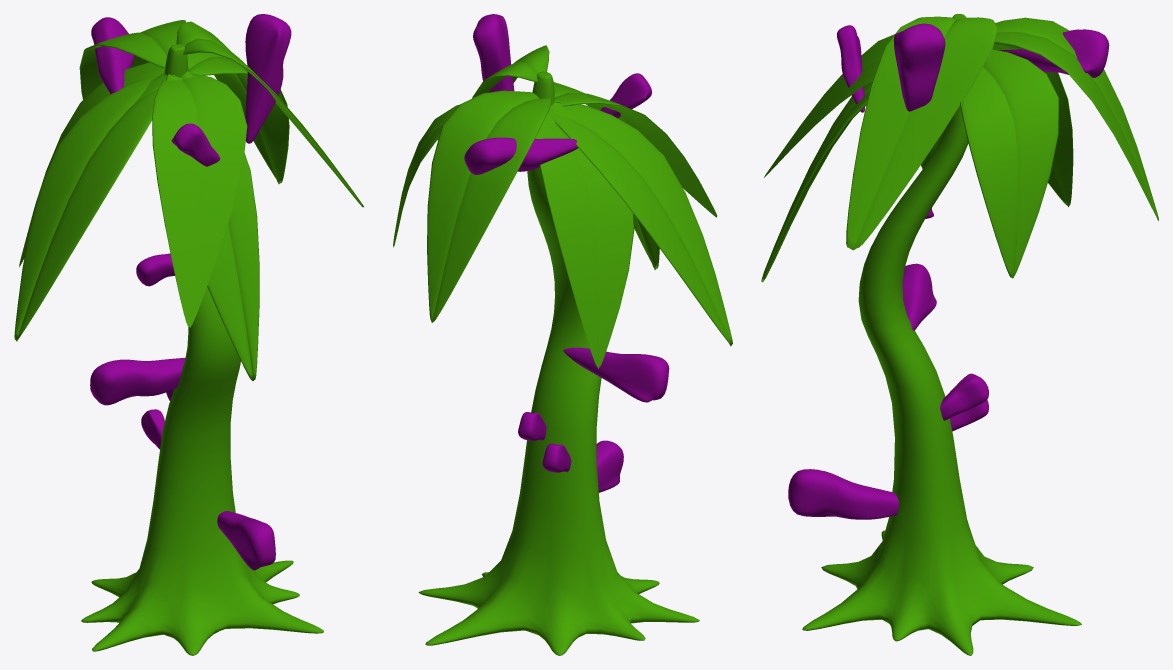
File: LeafyPlant_L3.fbx
3 renders of one model, left to right at view 1: azimuth 30°, elevation 25°; view 2: azimuth 150°, elevation 25°; view 3: azimuth 270°, elevation 25°, orthographic. The views are drawn at different scales.
Parts seen in each view (by area): view 1: LeafyBlight_L3; view 2: LeafyBlight_L3; view 3: LeafyBlight_L3.
Boxes of the visible parts, <box> form: LeafyBlight_L3: <box>14,14,363,655</box>; LeafyBlight_L3: <box>393,14,732,655</box>; LeafyBlight_L3: <box>761,14,1158,655</box>.
Size of the model in its own units: 12.53 by 22.31 by 13.24.
